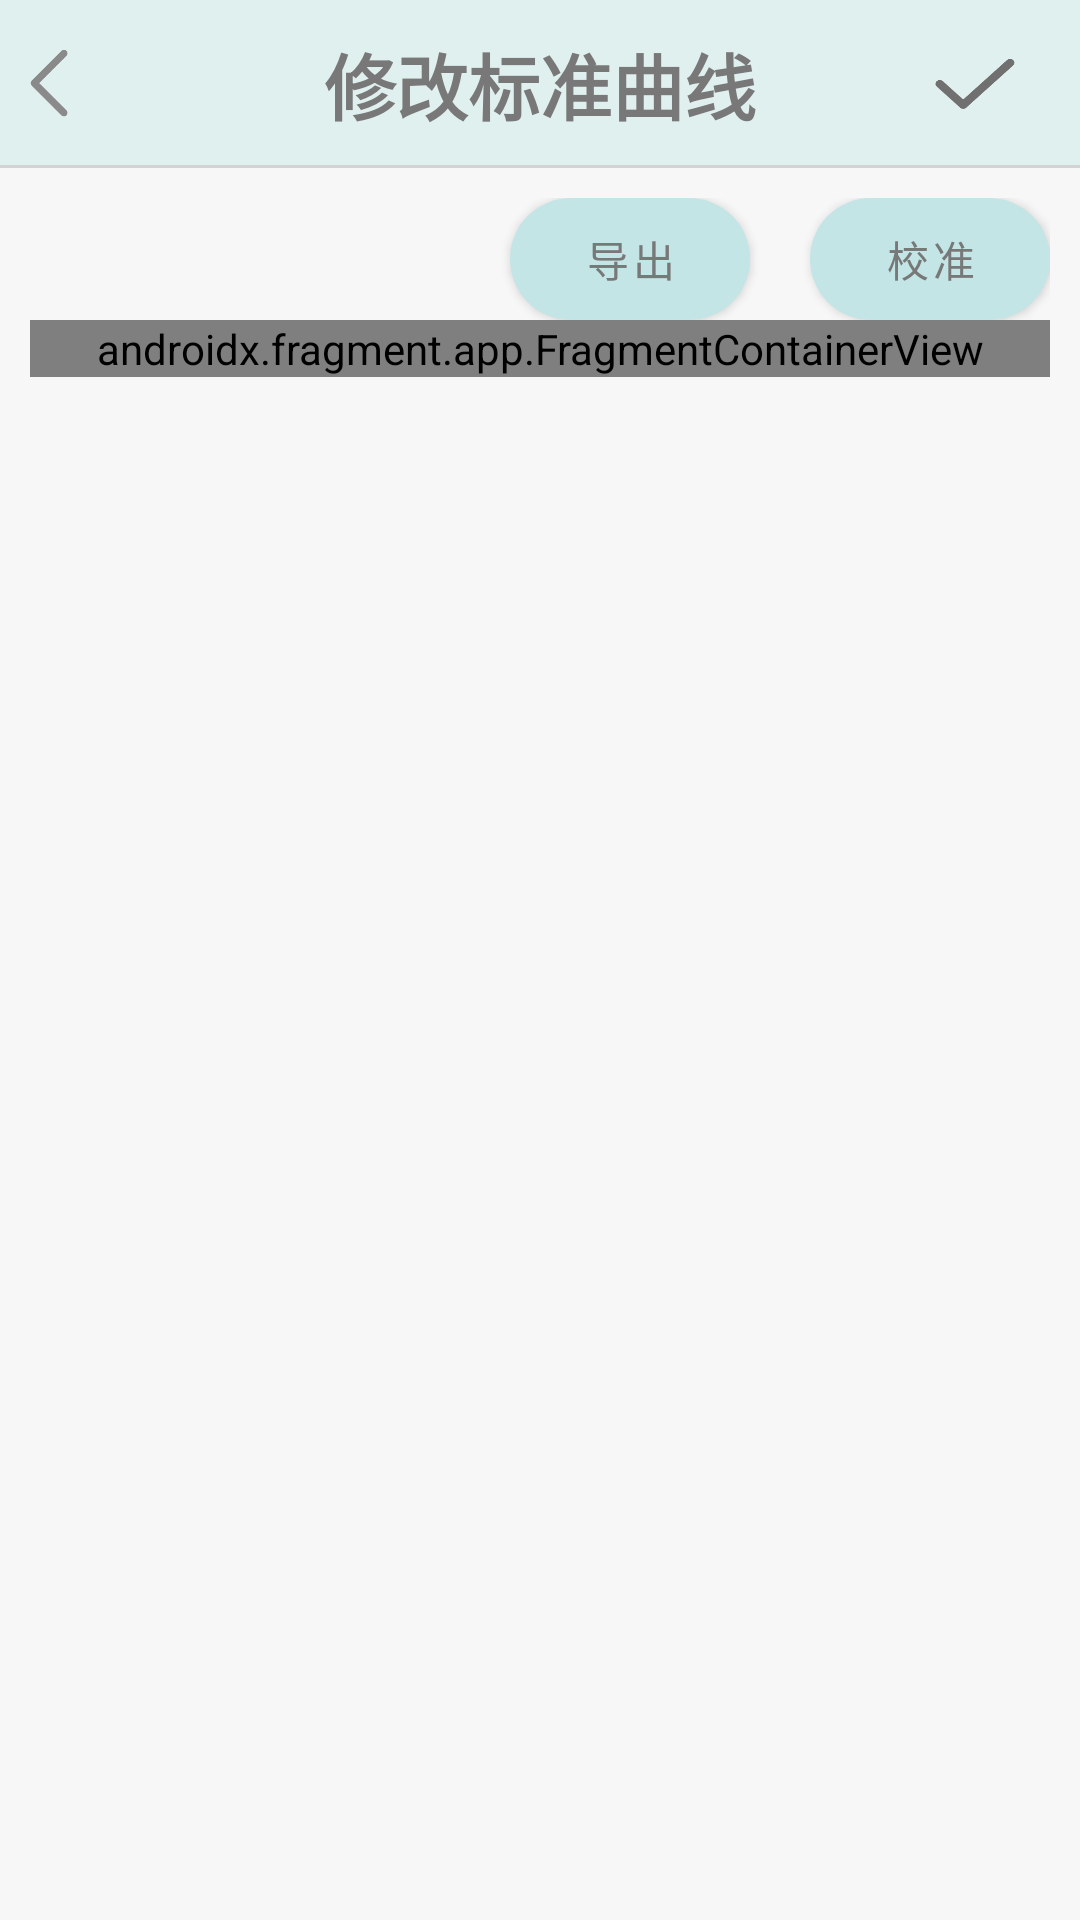

Screen size 1080*1920. Icon name, then its box in pixels as (x1, y1, x2, y2):
back: (31, 50, 68, 116)
save: (935, 59, 1015, 109)
